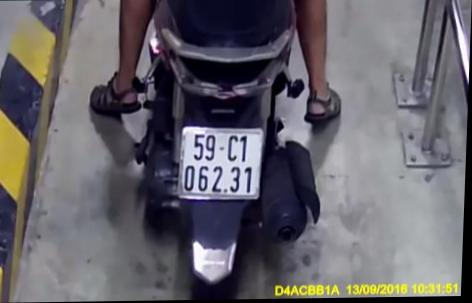LP: (178, 122, 265, 203)
